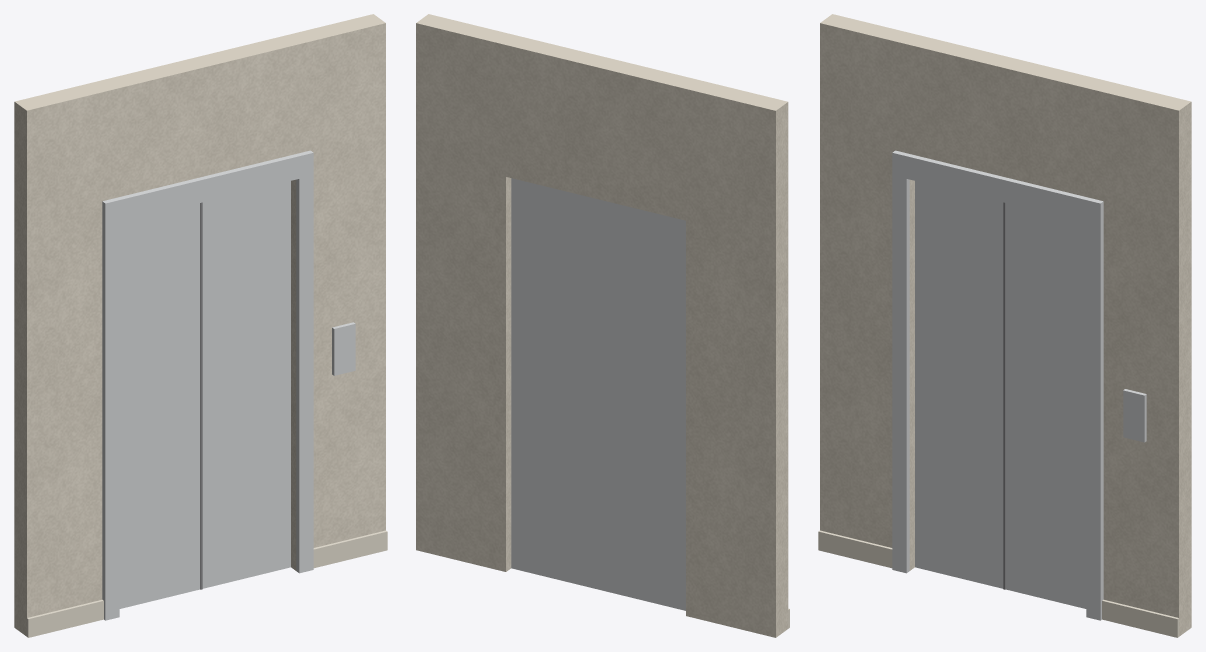
Rendered from elevator_door.glb.
3 views of the same model, side by side, from view 1: azimuth 30°, elevation 25°; view 2: azimuth 150°, elevation 25°; view 3: azimuth 330°, elevation 25° (orthographic).
Visible parts, largest first — view 1: elevator_door_plaster, elevator_door_metal, elevator_door_trim, elevator_door_dark; view 2: elevator_door_plaster, elevator_door_metal; view 3: elevator_door_plaster, elevator_door_metal, elevator_door_trim, elevator_door_dark.
Part boxes in pixels (x1,y1,x2,y2): elevator_door_plaster: (14, 14, 385, 636); elevator_door_metal: (102, 150, 355, 620); elevator_door_trim: (27, 530, 387, 637); elevator_door_dark: (200, 202, 202, 589); elevator_door_plaster: (416, 14, 788, 637); elevator_door_metal: (511, 178, 685, 610); elevator_door_plaster: (820, 14, 1191, 636); elevator_door_metal: (892, 150, 1146, 620); elevator_door_trim: (818, 530, 1178, 637); elevator_door_dark: (1003, 202, 1005, 589).
Bounding box in the file's own units: 2 × 2.8 × 0.15.
4 materials, 1 textured.
